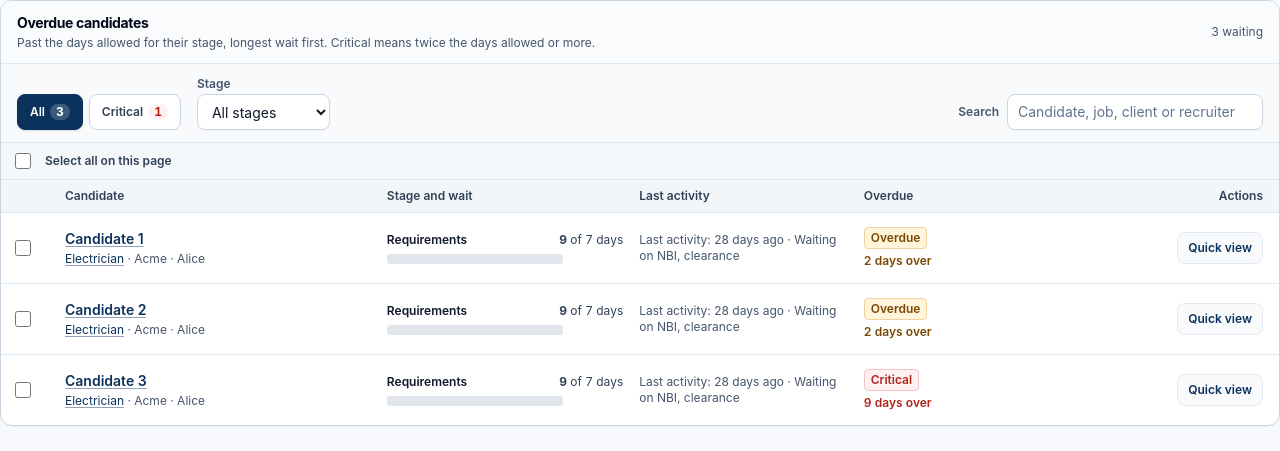
Test: StuckList selection › drops ticked rows a filter hides, so a bulk action only reaches rows on screen
Click the checkbox named "Select Candidate 1" at (23, 248), box [15,240,31,256]
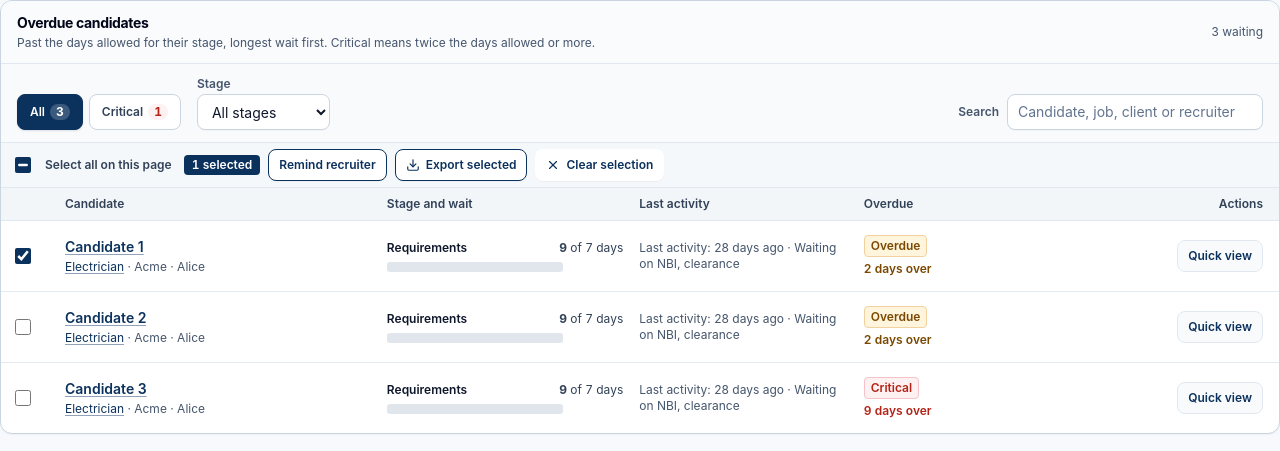
Click the checkbox named "Select Candidate 3" at (23, 398), box [15,390,31,406]
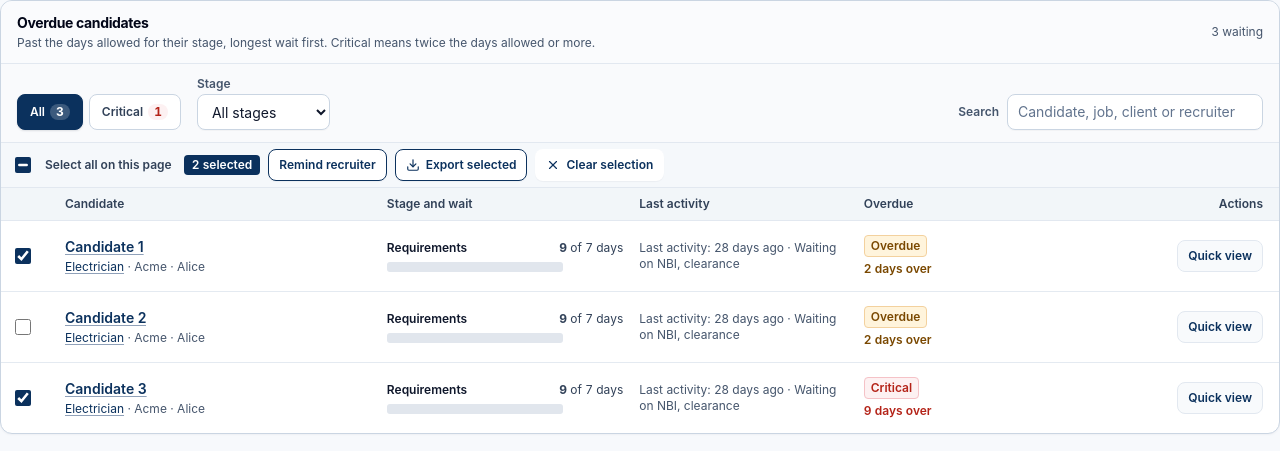
Expected: the text "2 selected" is shown, [184,155,260,175]
Click the button "Critical 1" at (135, 112), box [89,94,181,130]
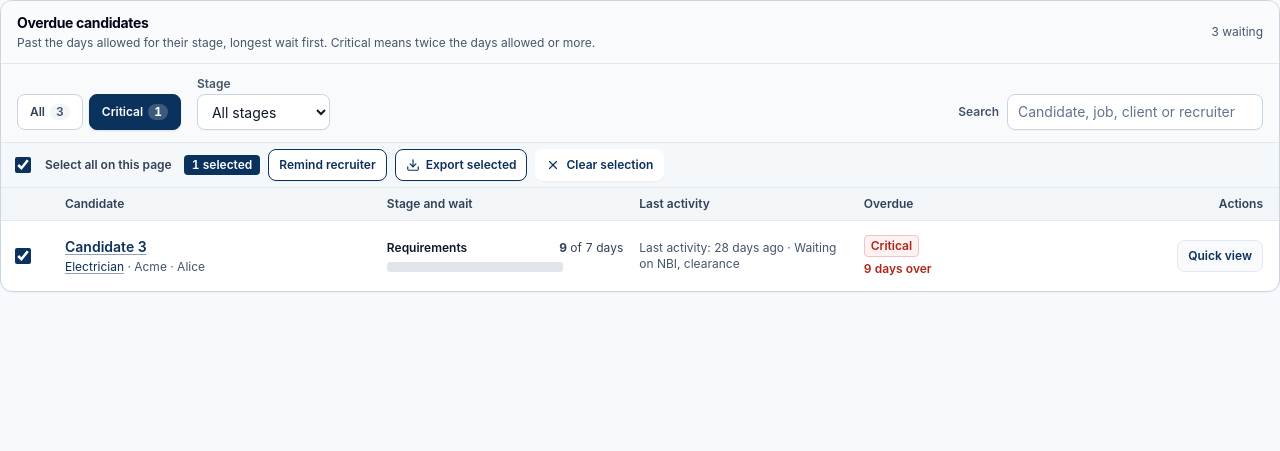
Expected: the text "1 selected" is shown, [184,155,260,175]
Click the button "Remind recruiter" at (328, 165), box [268,149,387,181]
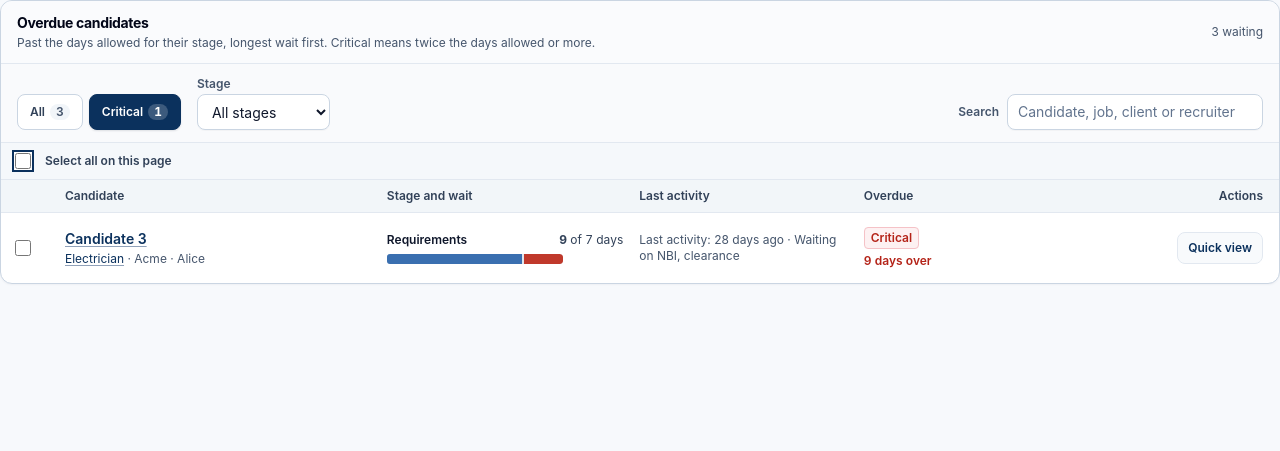
Expected: the text "1 selected" is gone
